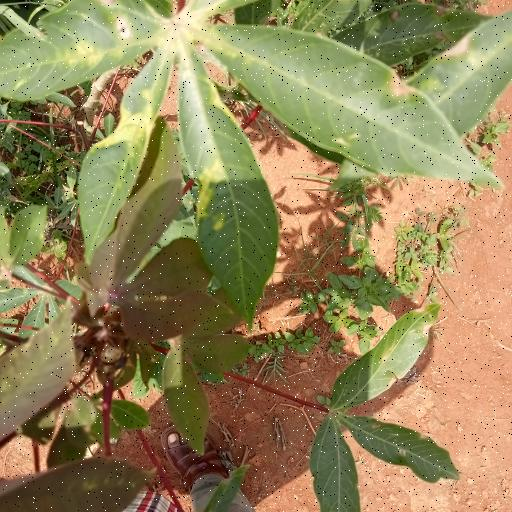Cassava_Brown_Leaf_Spot: (1, 0, 497, 304)
